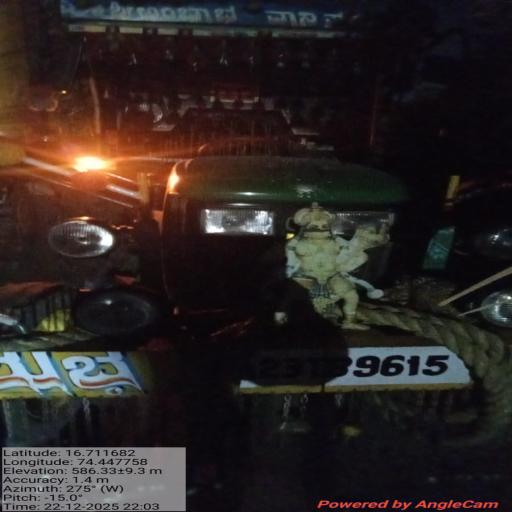number_plate: (149, 354, 459, 388)
